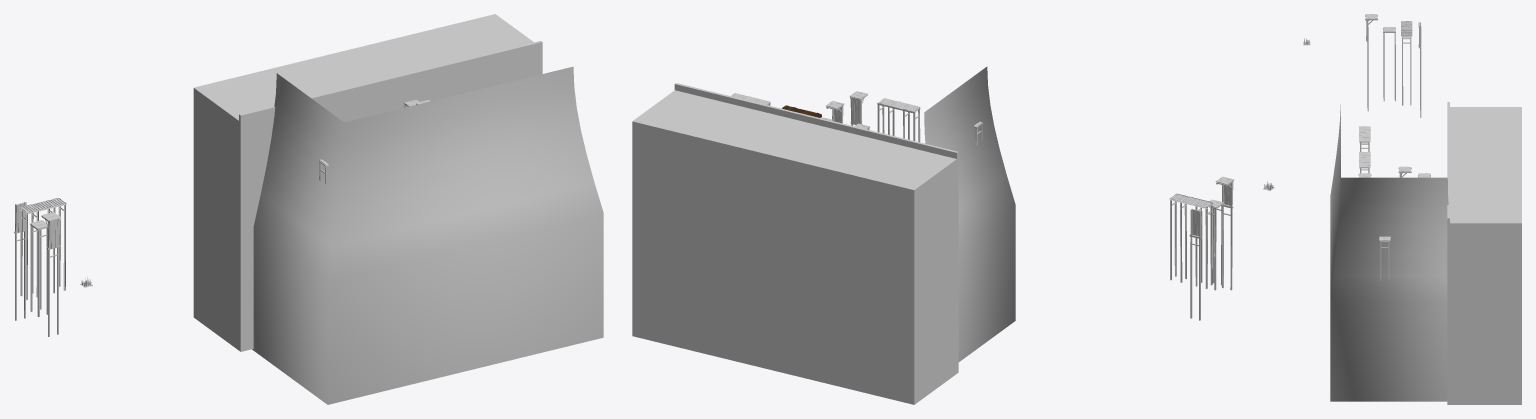
The model's file is KackplattformGLTF.glb.
The picture shows the model from 3 angles, left to right: view 1: azimuth 30°, elevation 25°; view 2: azimuth 150°, elevation 25°; view 3: azimuth 270°, elevation 25°; orthographic projection. The views are drawn at different scales.
Parts seen in each view (by area): view 1: Cube.050, Cube, SPlattformA.006, Plane.005, Plane.001; view 2: Cube, Cube.050, Plane.002, Plane.001, SPlattformA.006, Plane.005; view 3: Cube.050, Cube, SPlattformA.006, Plane.005, Plane.007, Plane.002, Plane.006, Plane.001.
Boxes of the visible parts, x1,y1,x2,y2 form: Cube.050: [252, 66, 603, 404]; Cube: [193, 14, 542, 351]; SPlattformA.006: [30, 220, 47, 316]; Plane.005: [41, 212, 60, 336]; Plane.001: [14, 201, 26, 320]; Cube: [632, 83, 958, 404]; Cube.050: [924, 66, 1015, 361]; Plane.002: [877, 98, 920, 142]; Plane.001: [1189, 208, 1201, 320]; SPlattformA.006: [1207, 199, 1223, 290]; Plane.005: [1215, 176, 1234, 290]; Cube.050: [1330, 104, 1448, 401]; Cube: [1447, 102, 1521, 404]; SPlattformA.006: [1383, 27, 1395, 101]; Plane.005: [1365, 14, 1377, 111]; Plane.007: [1359, 126, 1370, 151]; Plane.002: [1359, 152, 1370, 173]; Plane.006: [1379, 236, 1390, 280]; Plane.001: [1418, 22, 1421, 117].
Size of the model in its own units: 77.28 by 36.55 by 33.74.
1 material, 1 textured.
